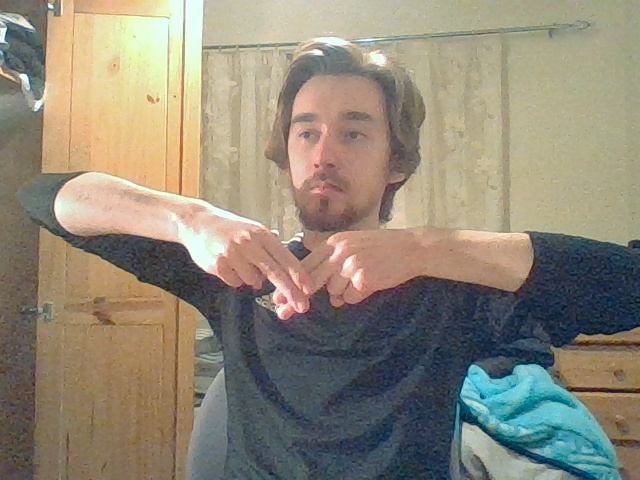father: (254, 219, 351, 319)
